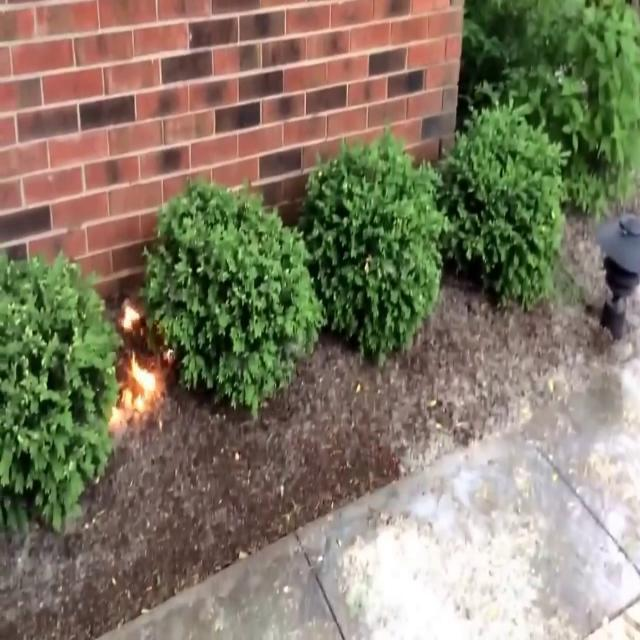Fire: (114, 298, 160, 424)
